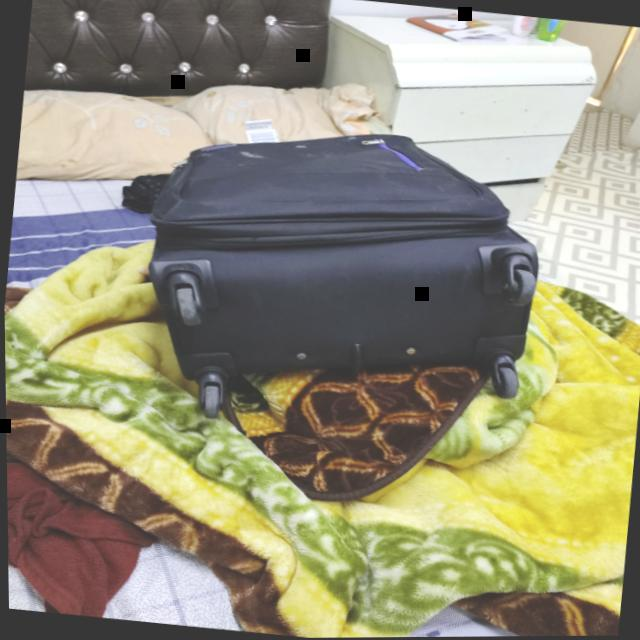luggage: (147, 135, 537, 416)
